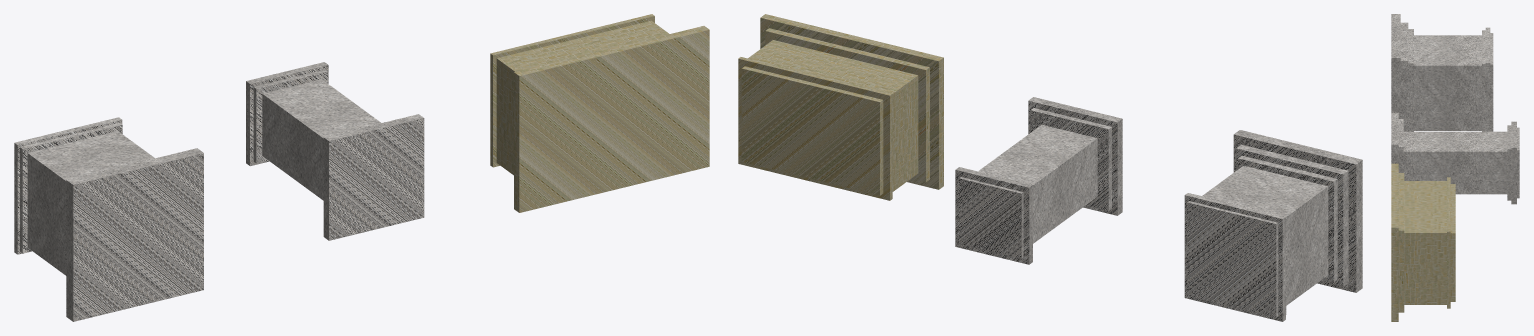
The model's file is cp_pedestal.glb.
3 renders of one model, left to right at view 1: azimuth 30°, elevation 25°; view 2: azimuth 150°, elevation 25°; view 3: azimuth 270°, elevation 25°, orthographic. The views are drawn at different scales.
Parts seen in each view (by area): view 1: Pedestal_Memorial, Pedestal_Standard, Pedestal_Column; view 2: Pedestal_Memorial, Pedestal_Standard, Pedestal_Column; view 3: Pedestal_Standard, Pedestal_Memorial, Pedestal_Column.
Part boxes in pixels (x1=…): Pedestal_Memorial: x1=490, y1=14, x2=709, y2=212; Pedestal_Standard: x1=14, y1=117, x2=203, y2=321; Pedestal_Column: x1=246, y1=62, x2=424, y2=240; Pedestal_Memorial: x1=738, y1=14, x2=943, y2=200; Pedestal_Standard: x1=1184, y1=130, x2=1362, y2=321; Pedestal_Column: x1=955, y1=97, x2=1122, y2=264; Pedestal_Standard: x1=1391, y1=14, x2=1493, y2=131; Pedestal_Memorial: x1=1391, y1=163, x2=1455, y2=321; Pedestal_Column: x1=1391, y1=112, x2=1519, y2=204.
Size of the model in its own units: 5.35 by 1.1 by 1.36.
Materials: 2 (2 with a texture image).
